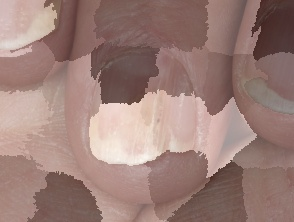Nail_psoriasis: (73, 10, 220, 193), (235, 0, 294, 121), (0, 0, 70, 59)
